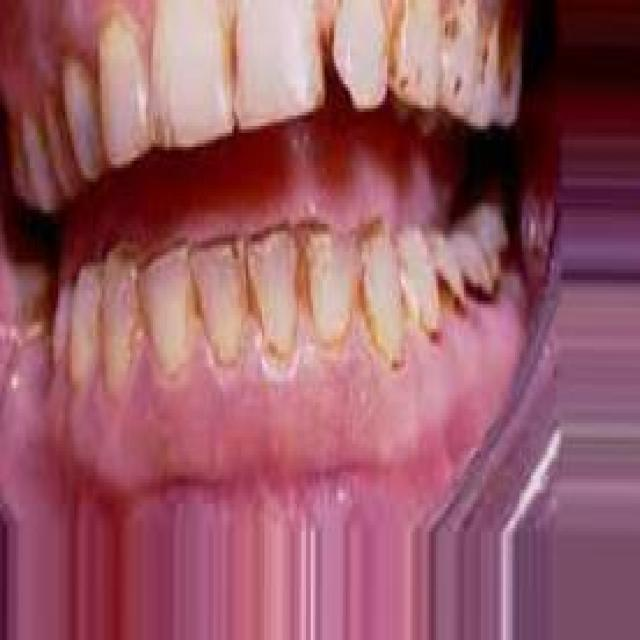caries: (431, 256, 468, 323)
